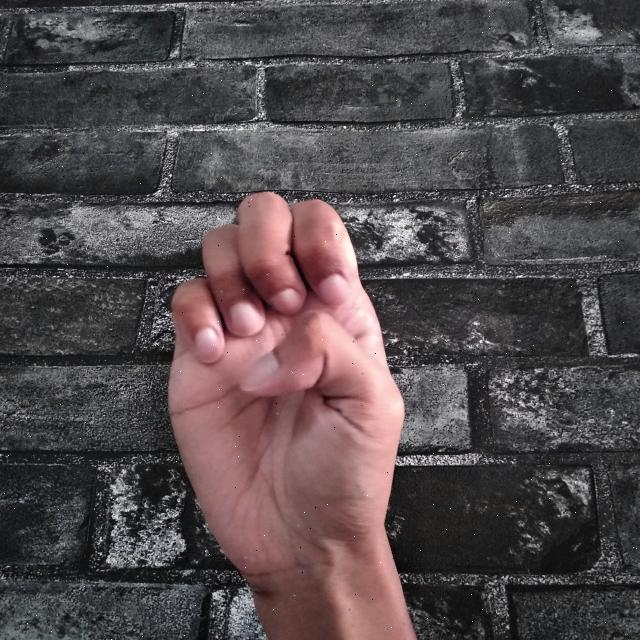E: (165, 189, 412, 640)
